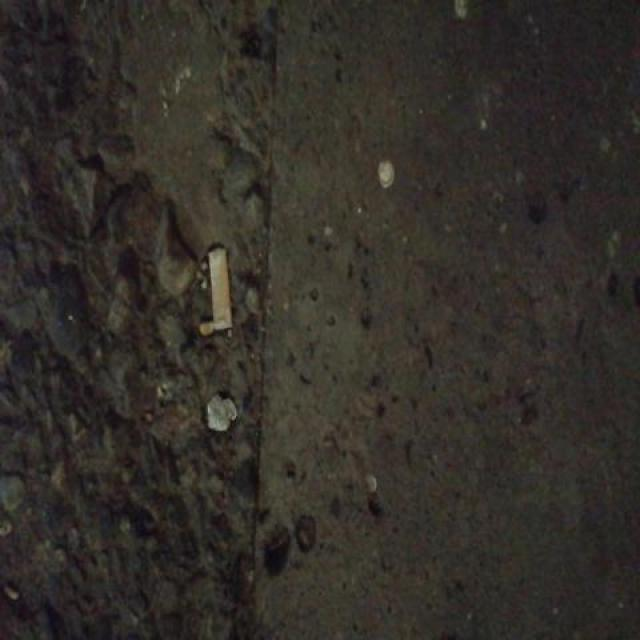non-organic waste: (206, 244, 234, 336)
